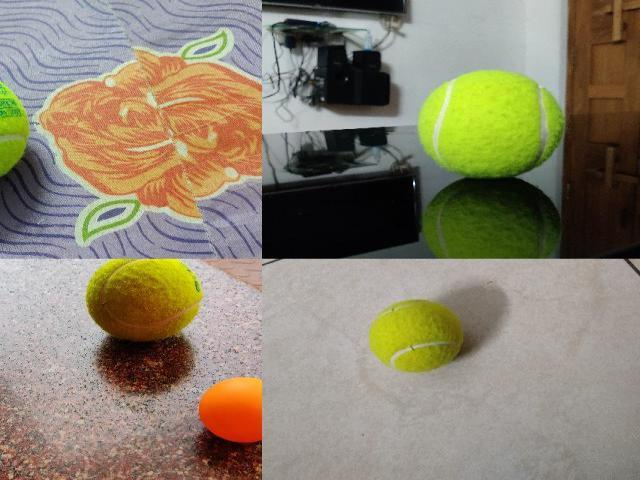tennis-ball: (417, 69, 565, 179), (85, 259, 203, 342), (368, 300, 466, 374), (0, 75, 31, 181)
